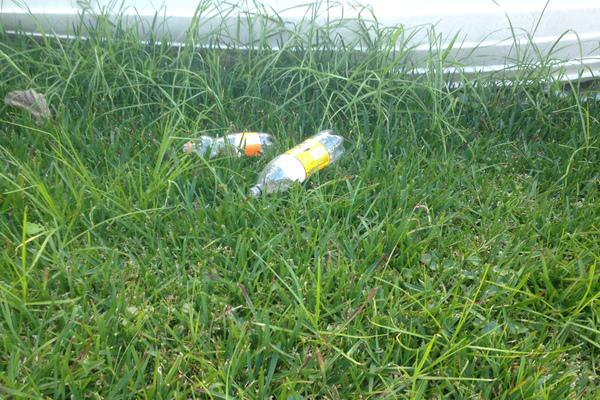Plastic Bottle: (250, 130, 345, 195), (182, 132, 274, 160)
